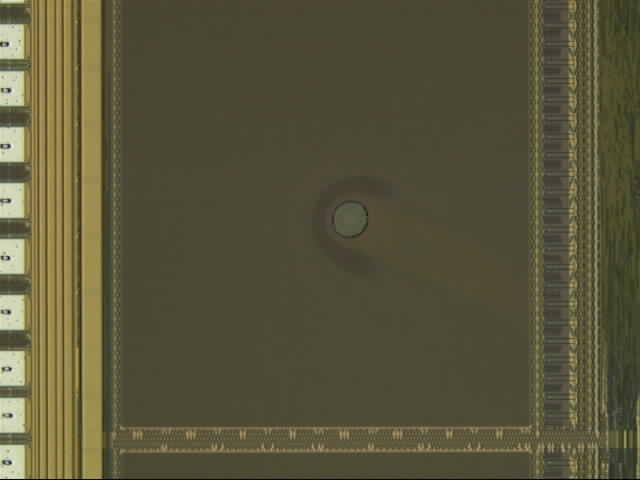BLOCK ETCH: (330, 198, 374, 242)
